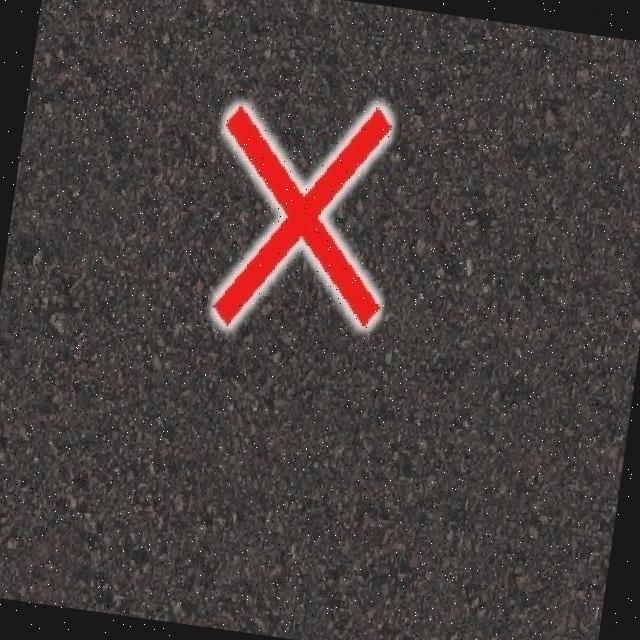x_marker: (198, 85, 405, 345)
